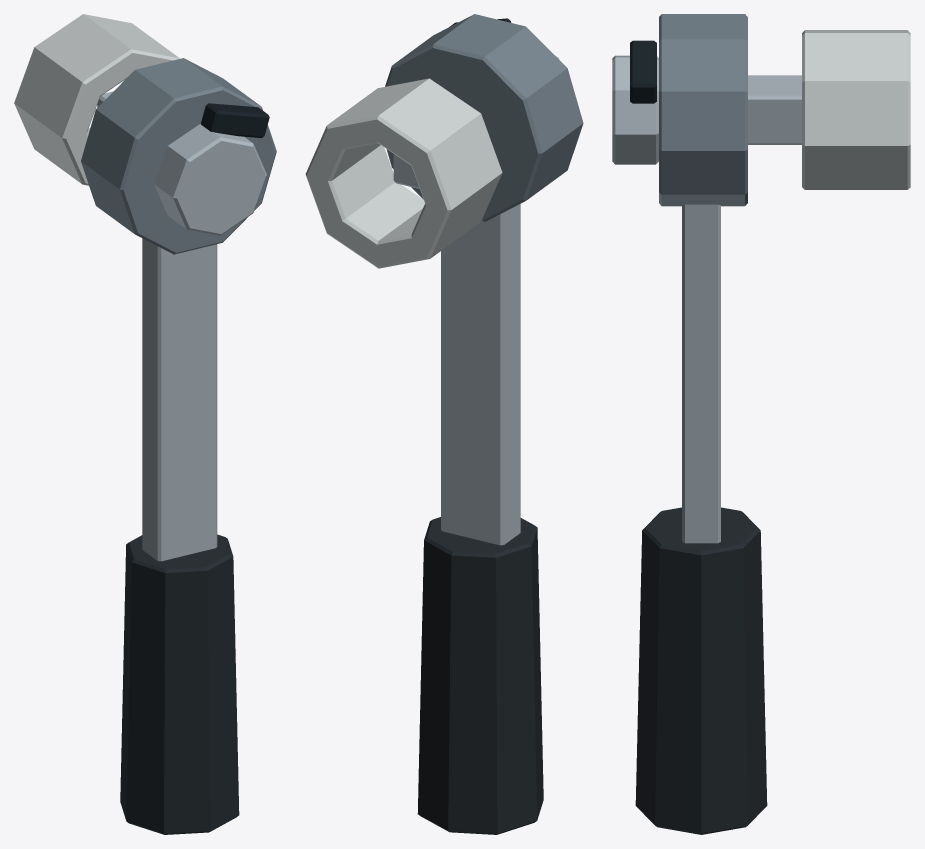
The model's file is b06_socket_ratchet.glb.
3 views of the same model, side by side, from view 1: azimuth 30°, elevation 25°; view 2: azimuth 150°, elevation 25°; view 3: azimuth 270°, elevation 25° (orthographic). The views are drawn at different scales.
Visible parts, largest first — view 1: b06_socket_ratchet; view 2: b06_socket_ratchet; view 3: b06_socket_ratchet.
Boxes of the visible parts, <box> form: b06_socket_ratchet: <box>14,14,276,834</box>; b06_socket_ratchet: <box>305,14,583,834</box>; b06_socket_ratchet: <box>612,14,910,834</box>.
Bounding box in the file's own units: 0.05 × 0.2228 × 0.077.
